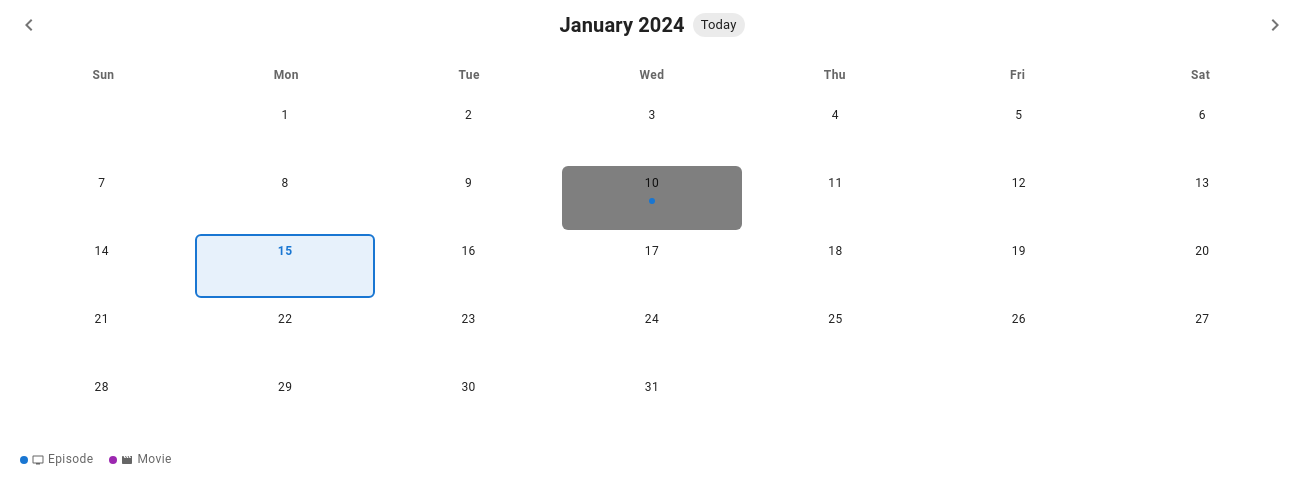
Test: CalendarGridView › day popover › should open a popover showing items when a day with content is clicked
Click the text "10" at (652, 184), box x1=645 y1=174 x2=659 y2=194
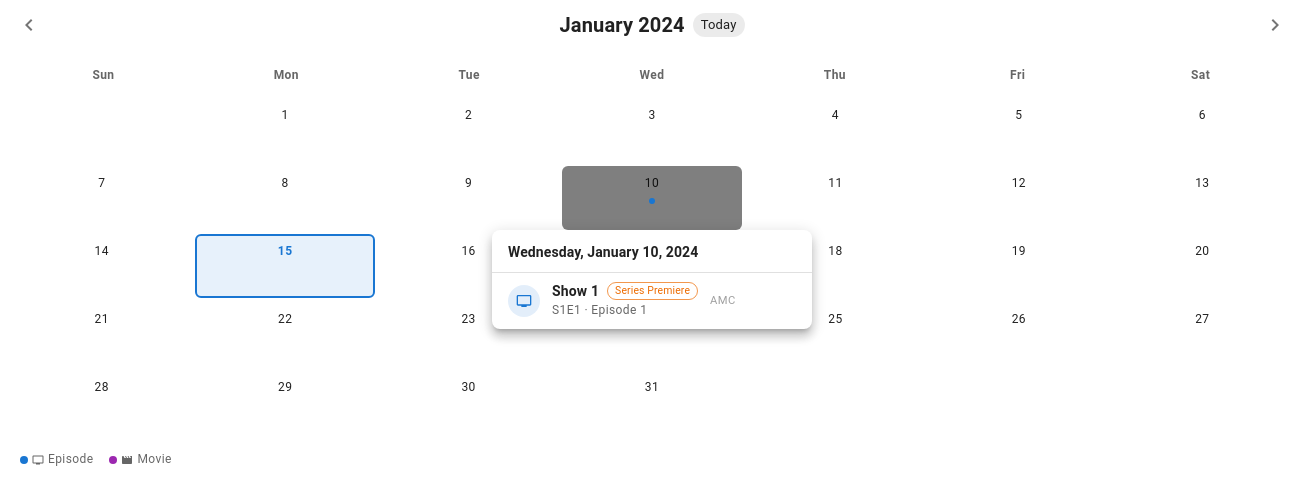
Result: the text "Show 1" is shown at x1=552 y1=281 x2=599 y2=301
